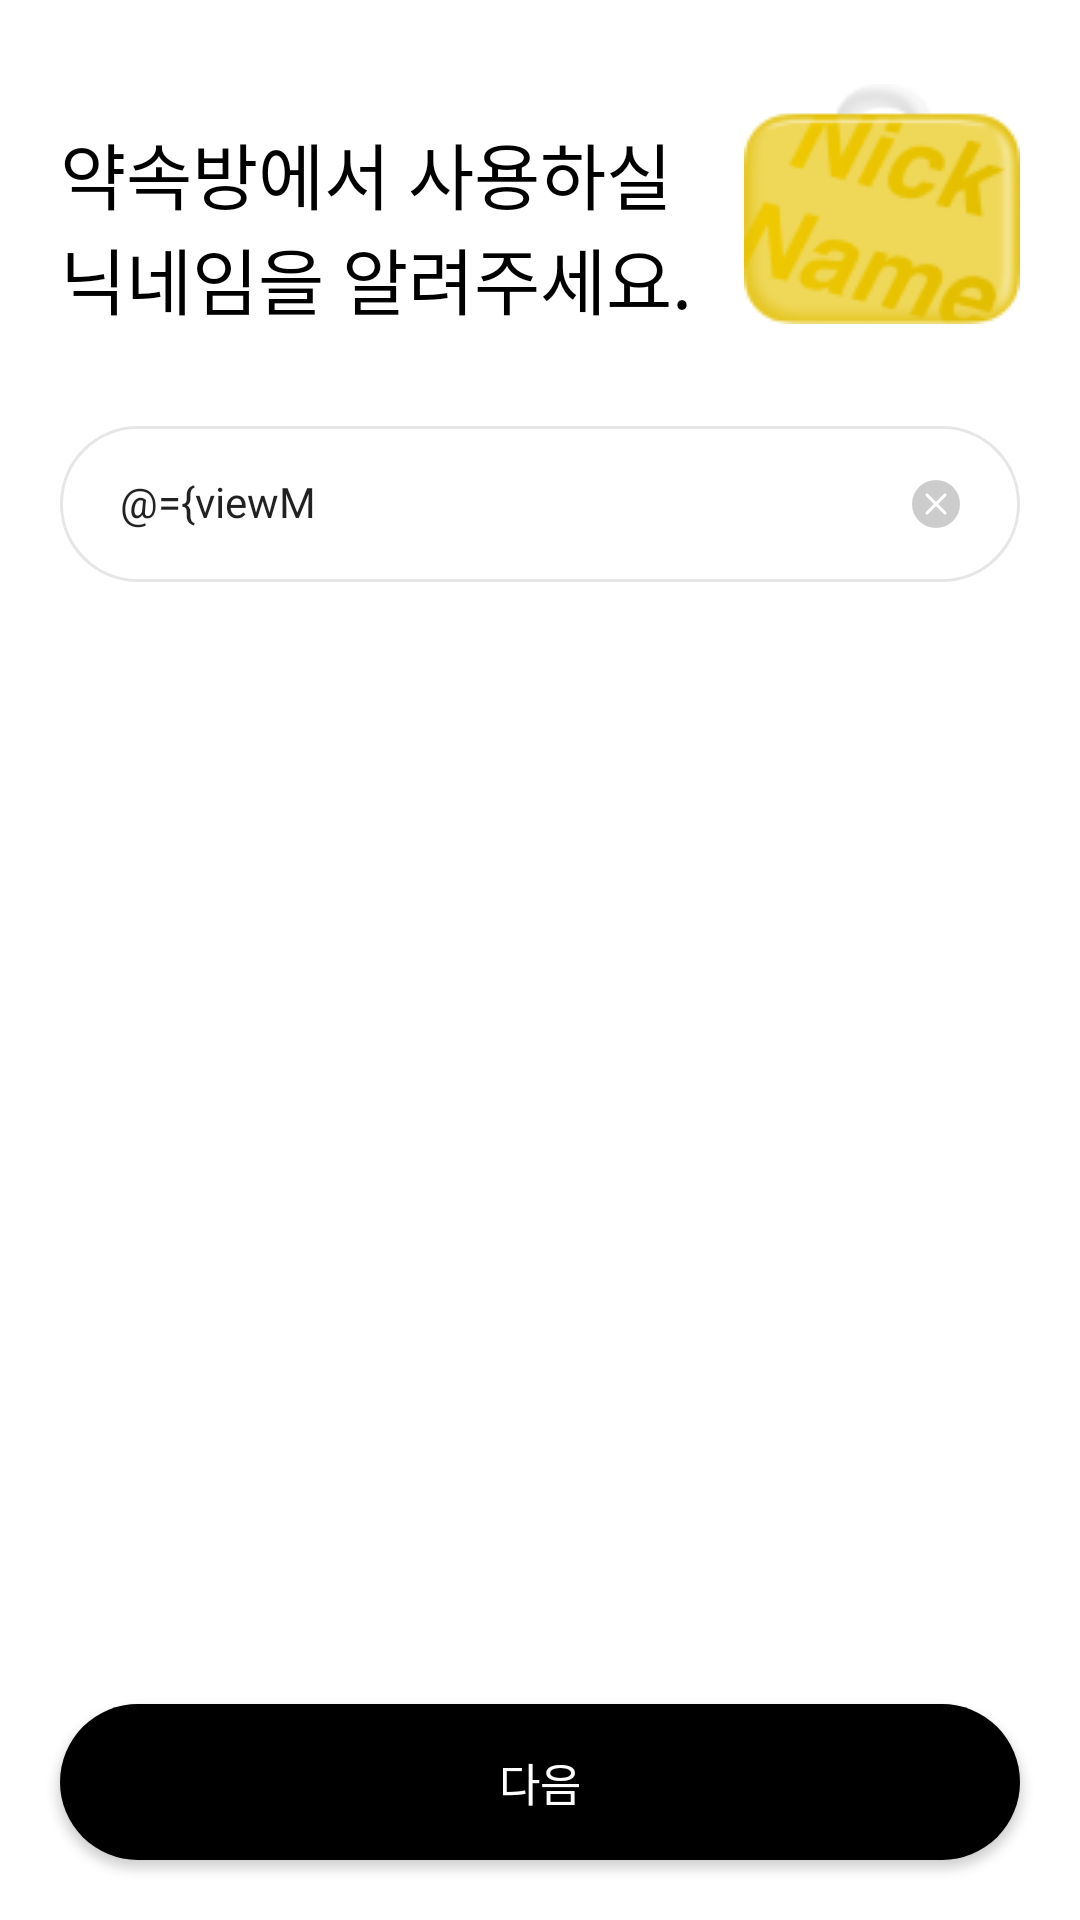

Icon bounding boxes for this 1080w x 1920h phone screenshot, format (x1, y1, x2, y2):
close: (912, 480, 960, 528)
